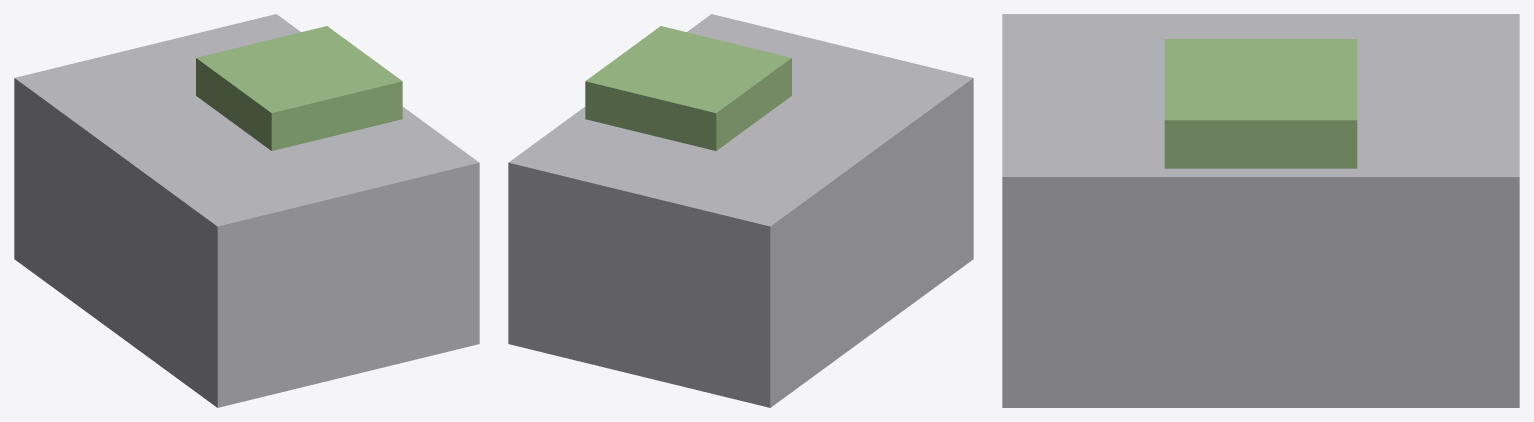
Rendered from Prop_Dress_AMF_Rock_V2.glb.
3 views of the same model, side by side, from view 1: azimuth 30°, elevation 25°; view 2: azimuth 150°, elevation 25°; view 3: azimuth 270°, elevation 25° (orthographic). The views are drawn at different scales.
Visible parts, largest first — view 1: Prop_Dress_AMF_Rock_V2; view 2: Prop_Dress_AMF_Rock_V2; view 3: Prop_Dress_AMF_Rock_V2.
Boxes of the visible parts, <box> form: Prop_Dress_AMF_Rock_V2: <box>14,14,479,407</box>; Prop_Dress_AMF_Rock_V2: <box>508,14,973,407</box>; Prop_Dress_AMF_Rock_V2: <box>1002,14,1519,407</box>.
Size of the model in its own units: 0.5358 by 0.4286 by 0.7196.
